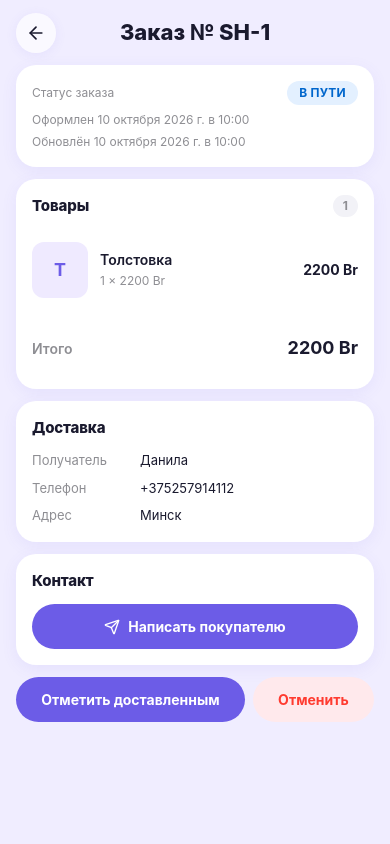
Test: SellerOrderDetailsView (ORD-08/ORD-10) › IN_TRANSIT cancel → confirmation с предупреждением про held
The image size is (390, 844).
Click the button "Отменить". click: (313, 700)
box: x1=253 y1=677 x2=374 y2=722
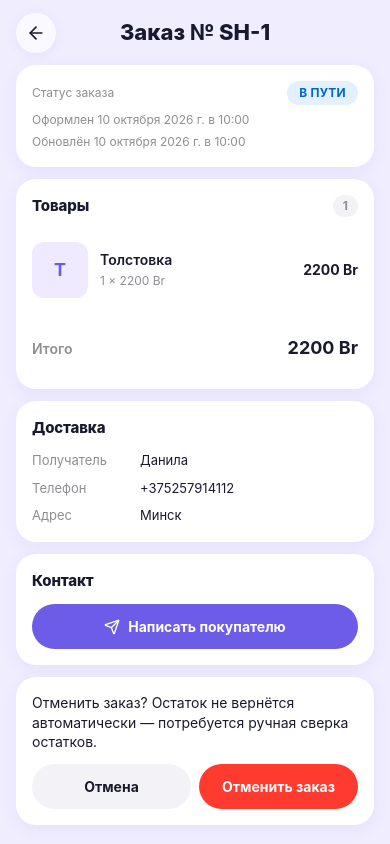
expect the text "Остаток не вернётся автоматически" is shown: met, box x1=32 y1=694 x2=348 y2=750
